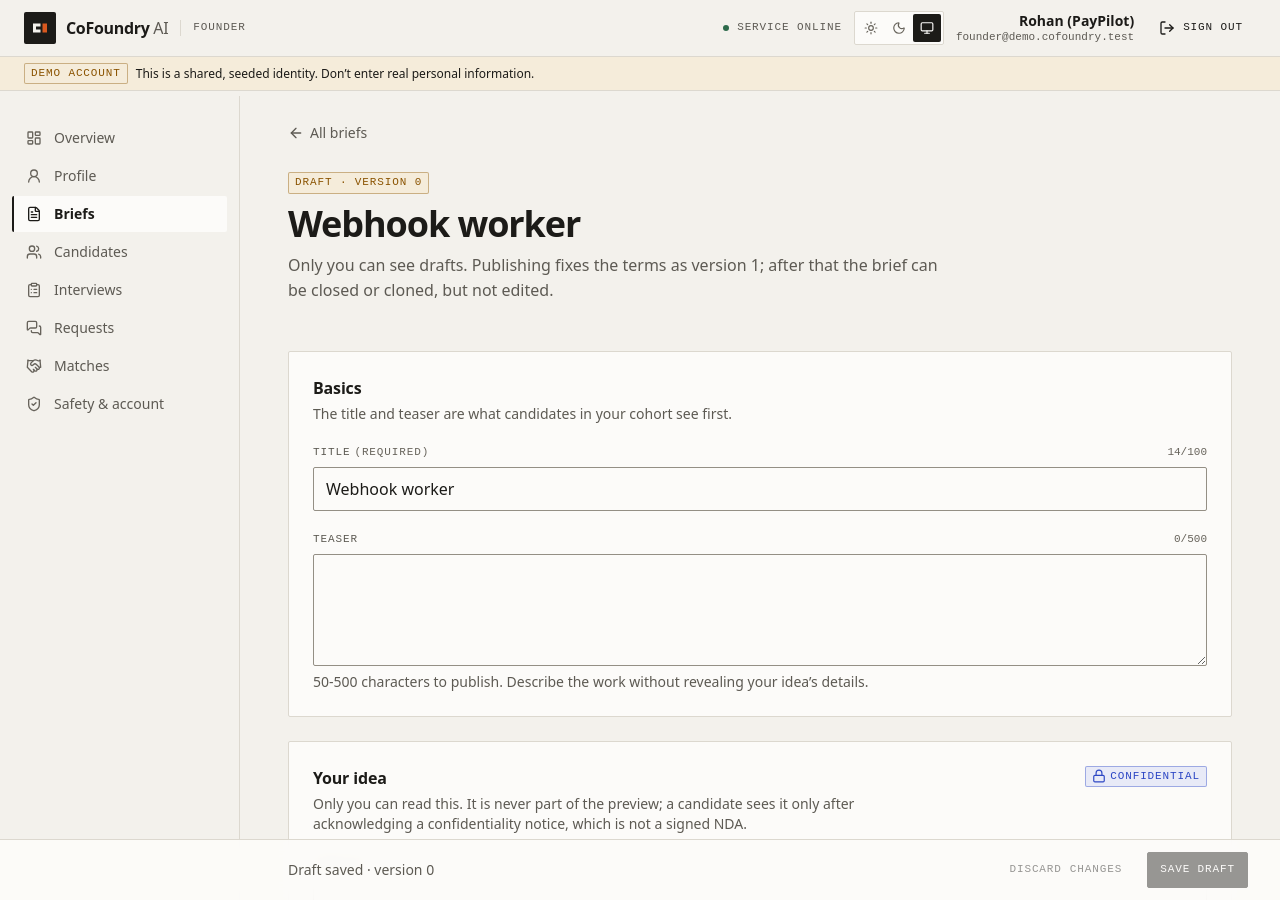
draft editor › saves only changed fields with the expected version
Type "Short teaser" into the text box labelled "Teaser" at (760,610), box [313,554,1207,666]
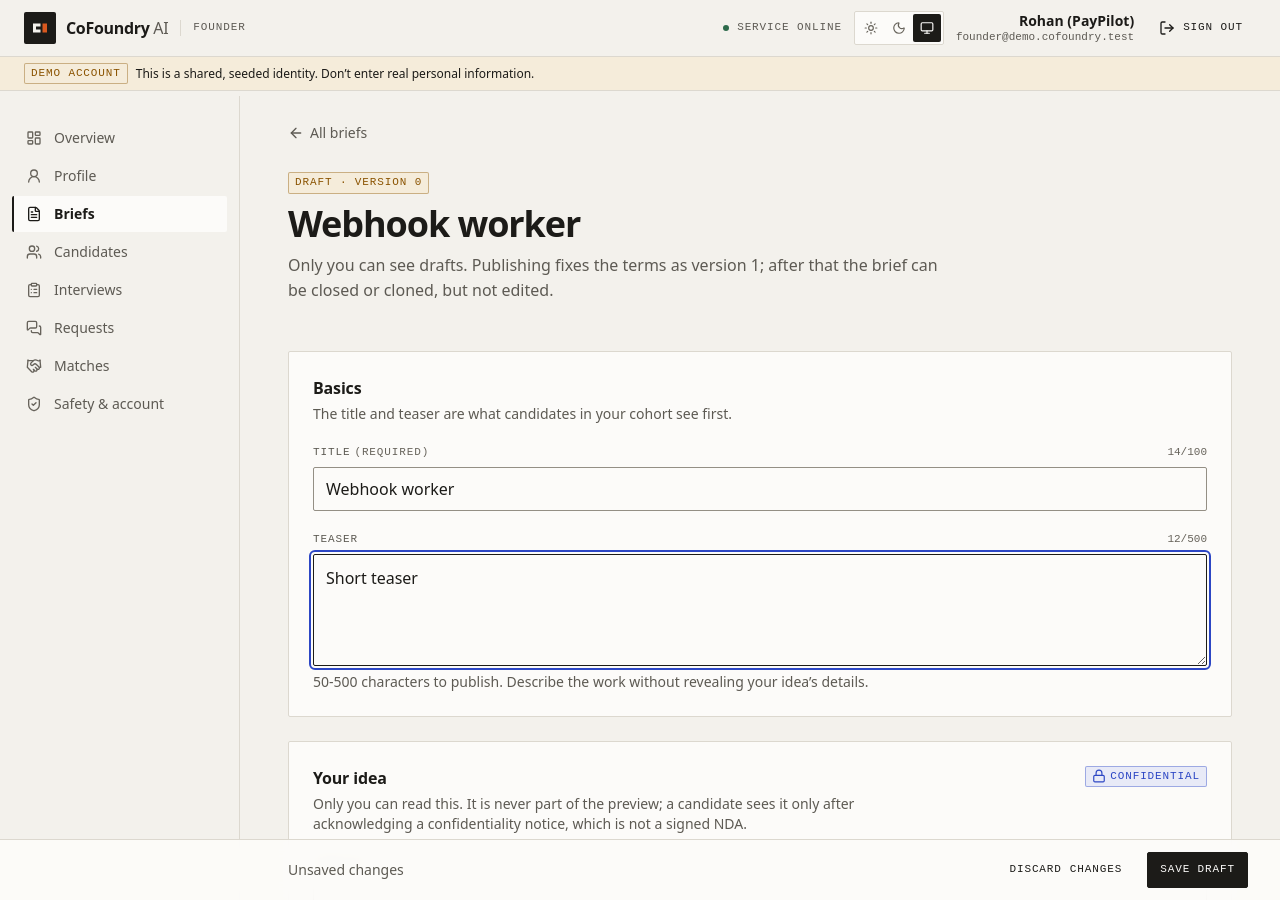
Now the text "Unsaved changes" is shown, box [288,860,404,880]
Click the button "Save draft" at (1198,870), box [1147,852,1248,888]
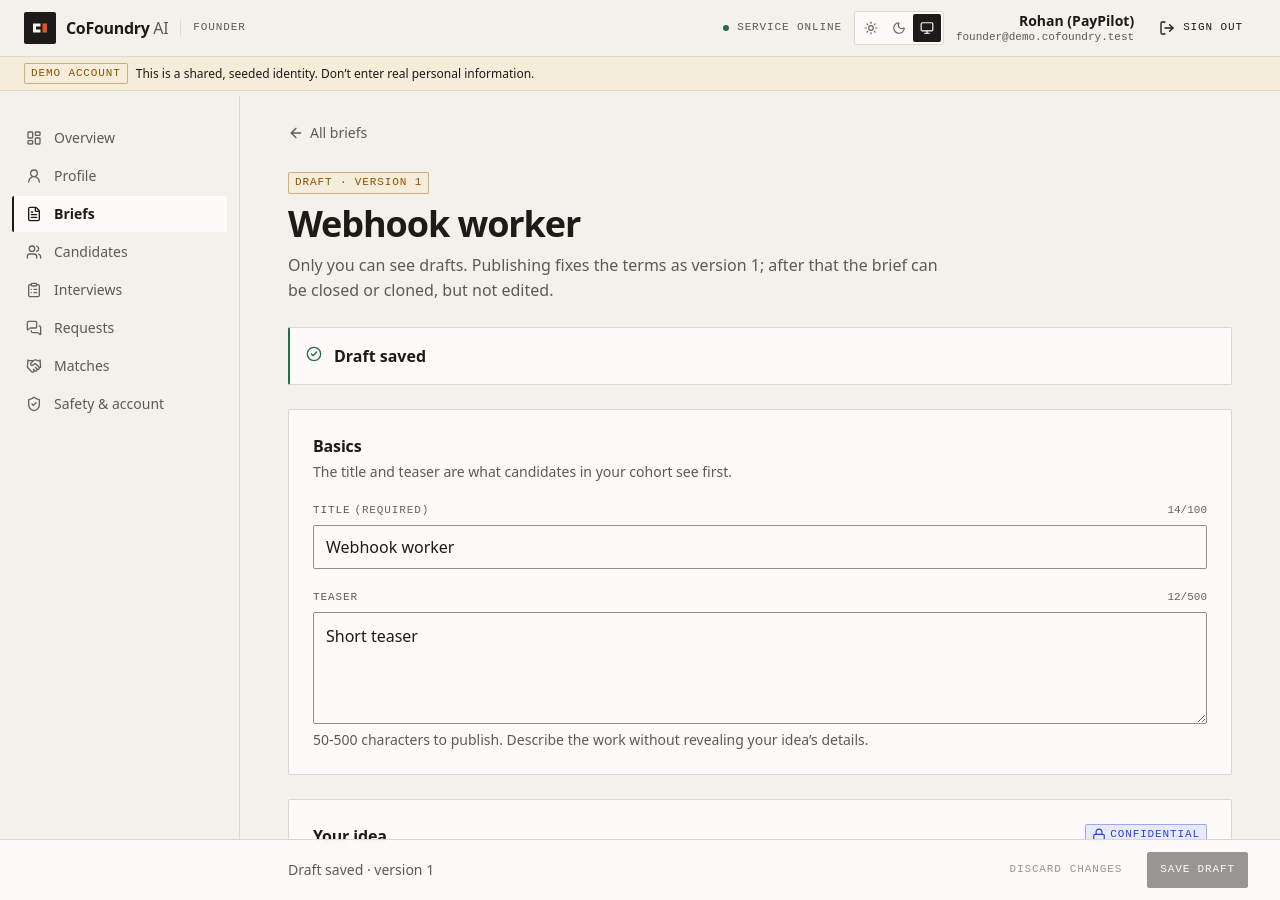
Now the text "Draft saved" is shown, box [334,345,426,367]
Now the text "Draft saved · version 1" is shown, box [288,860,434,880]
